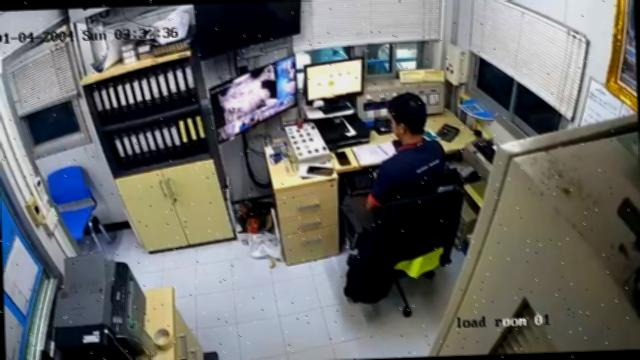Head: (389, 91, 427, 142)
People: (342, 92, 446, 230)
Phone: (334, 149, 351, 166), (306, 166, 333, 175)
